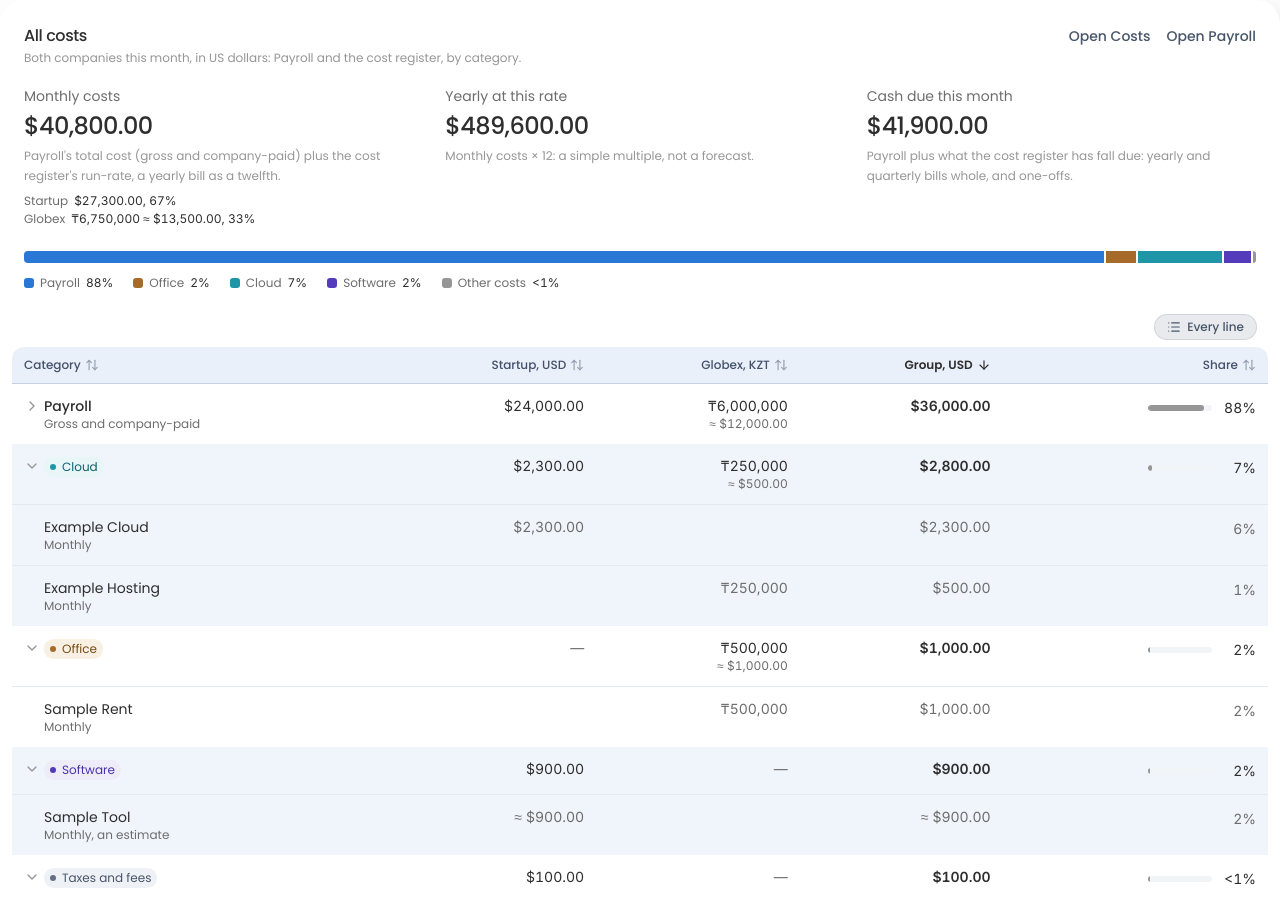
Scenario: the group: both companies in dollars › a category folds, and Categories only folds them all; Payroll opens on a click alone
The image size is (1280, 900).
What coordinates should you click on to do the following:
click the button "Software"
I would click on:
 (72, 770)
Its box is [24,759,121,780].
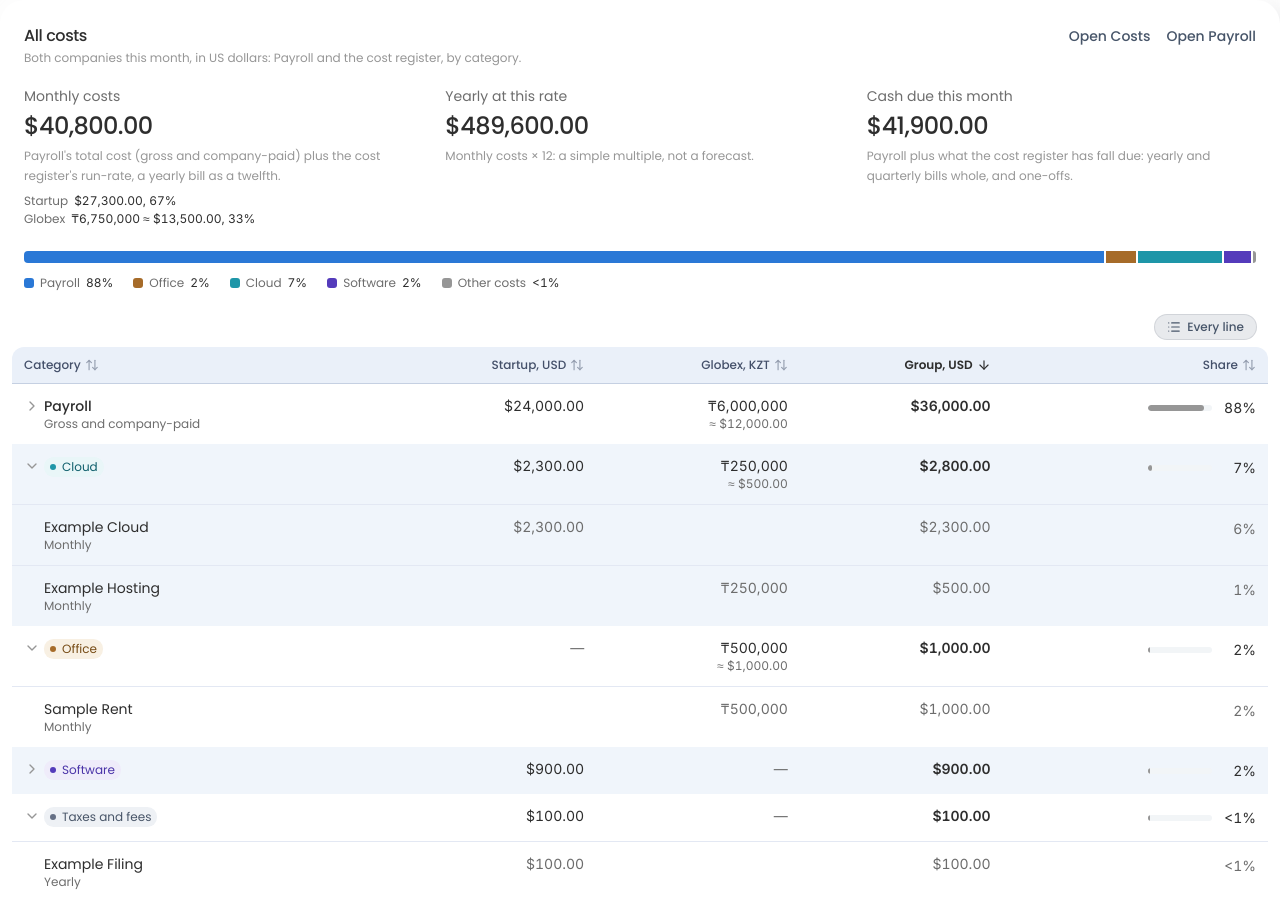
Expected: the column heading "Example Hosting Monthly" is shown, [12,566,381,626]
Expected: the column heading "Sample Tool" is gone
What coordinates should you click on to do the following:
click the button "Every line"
I would click on:
 (1206, 327)
Its box is [1155,315,1256,339].
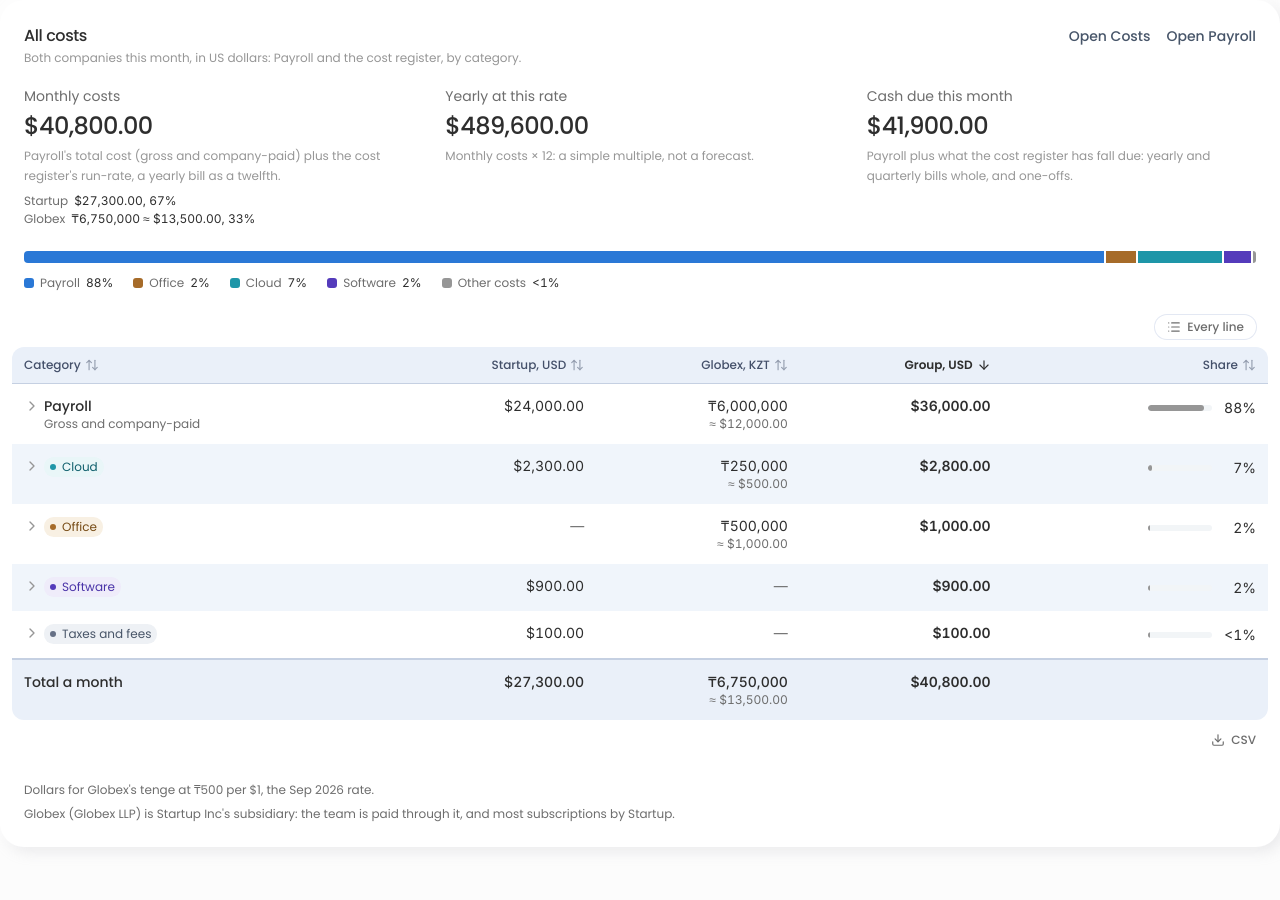
Expected: the column heading "Example Hosting Monthly" is gone
What coordinates should you click on to do the following:
click the button "Every line"
I would click on:
 (1206, 327)
Its box is [1155,315,1256,339].
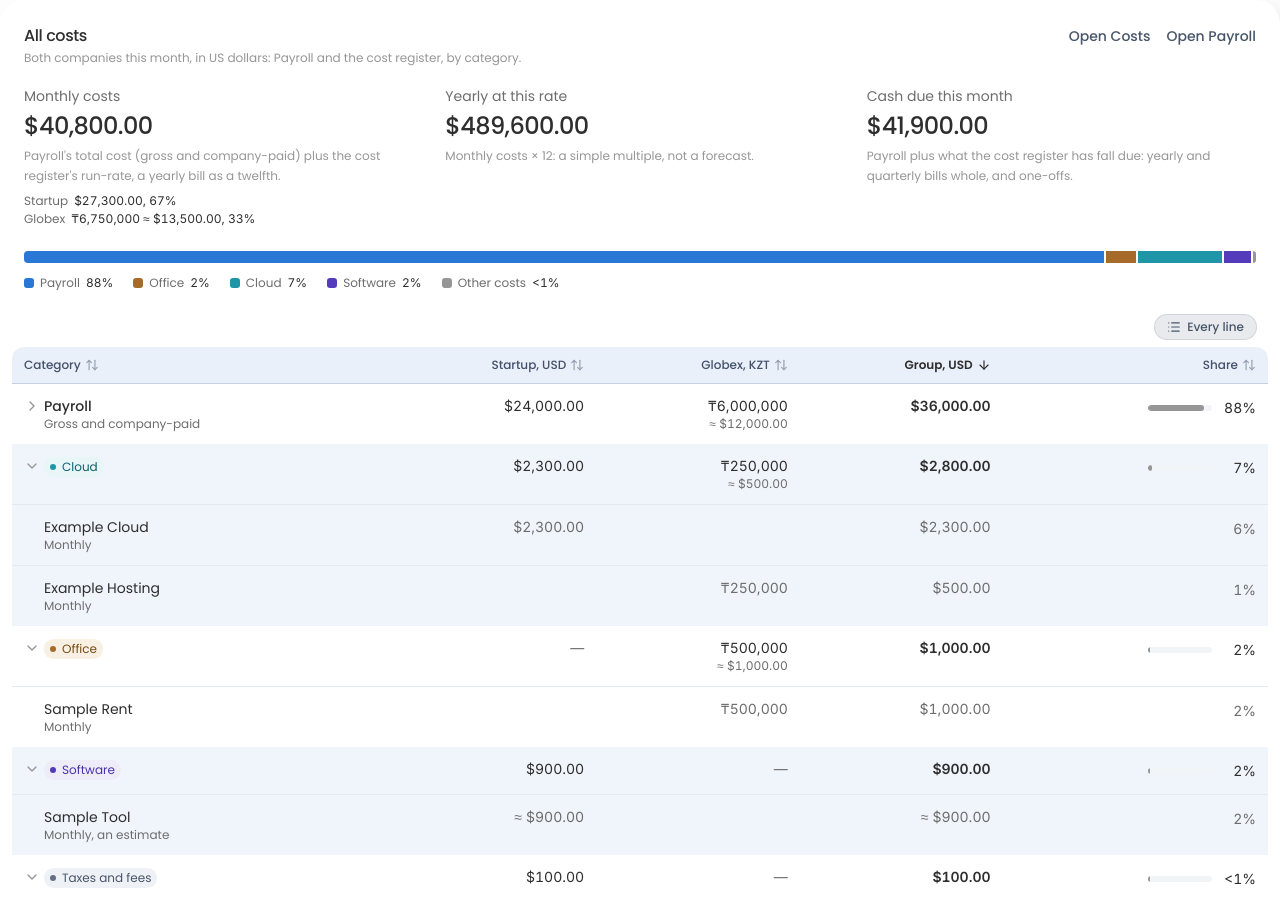
Expected: the column heading "Sample Tool Monthly, an estimate" is shown, [12,794,381,855]
